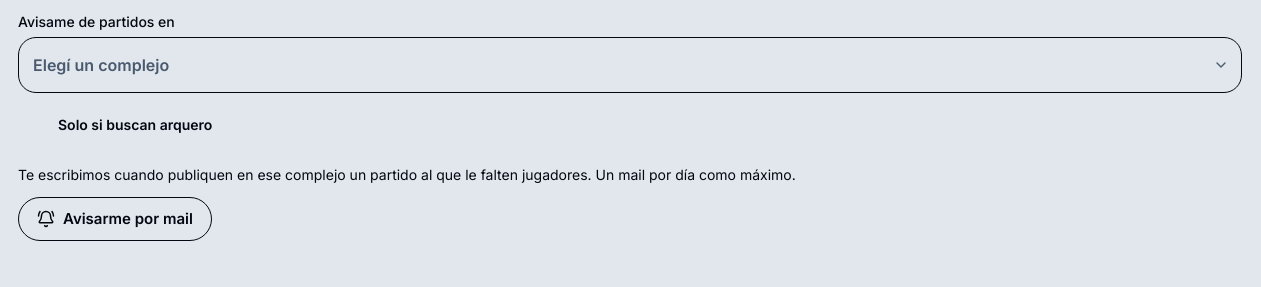
Test: AlertOptIn: precarga de la suscripción guardada › al elegir un complejo con "solo arquero" guardado, la casilla viene marcada y el botón dice "Actualizar aviso"
The image size is (1261, 287).
Check: the button "Avisarme por mail" is shown, box x1=18 y1=197 x2=212 y2=241
Press the mouse on the button named "Avisame de partidos en": (101, 65) x1=18 y1=37 x2=1242 y2=93
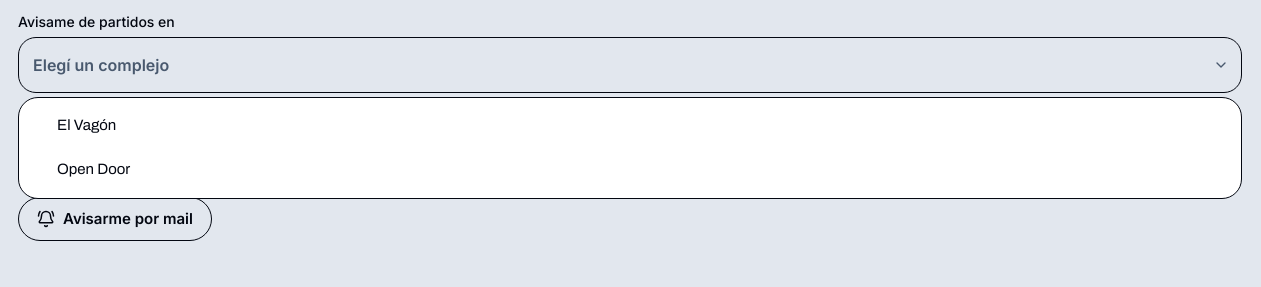
Click the menu item "El Vagón": (87, 125) x1=57 y1=117 x2=116 y2=133
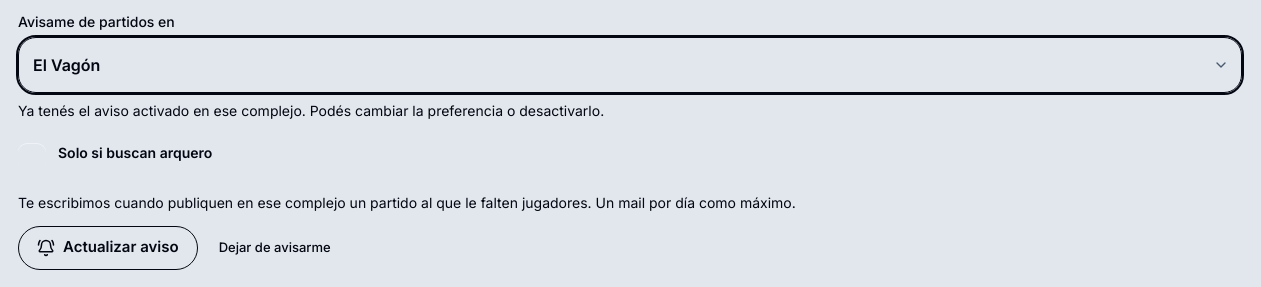
Check: the button "Actualizar aviso" is shown, box x1=18 y1=226 x2=198 y2=270
